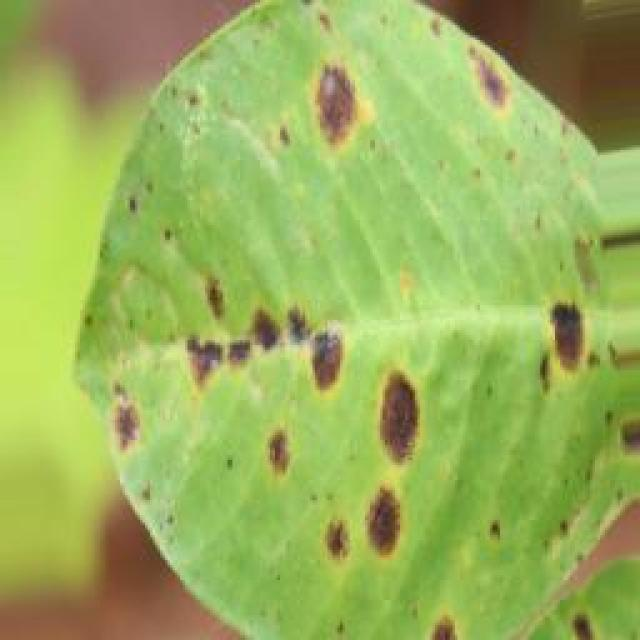Yellowish: (81, 0, 603, 640)
